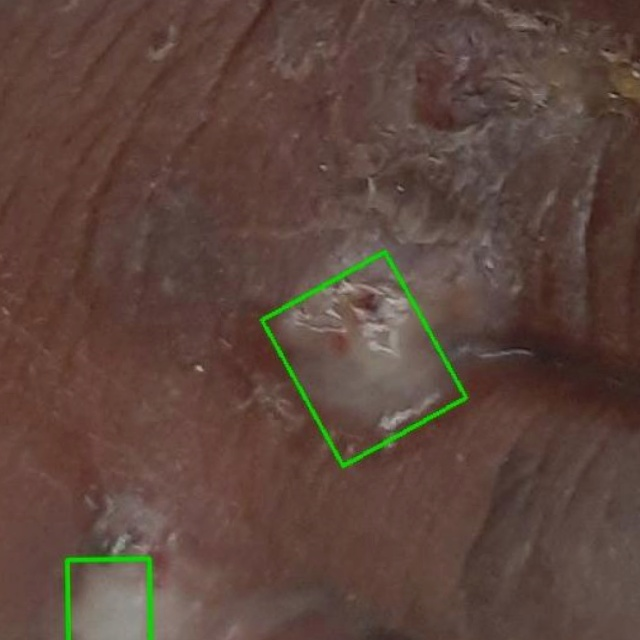Eczema: (261, 251, 464, 464), (67, 558, 150, 639)
